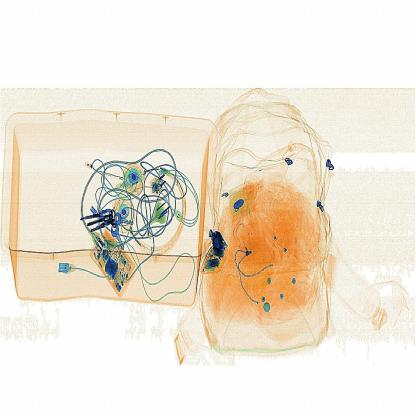scissors: (206, 224, 236, 262)
